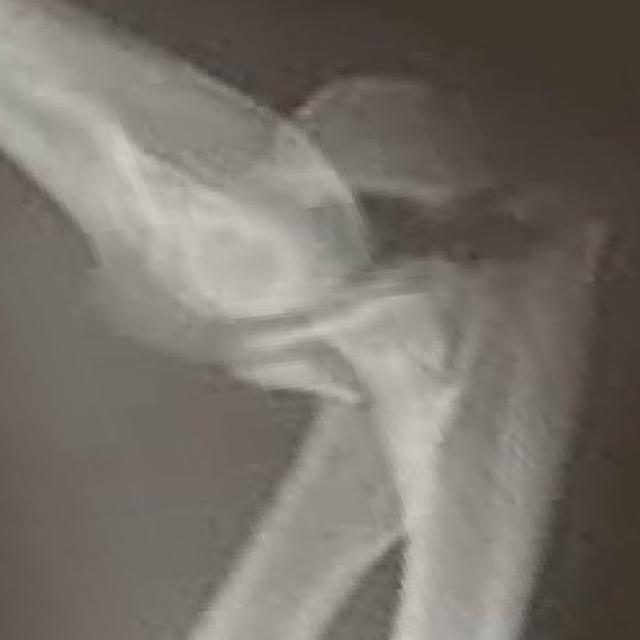Fracture: (110, 75, 598, 412)
